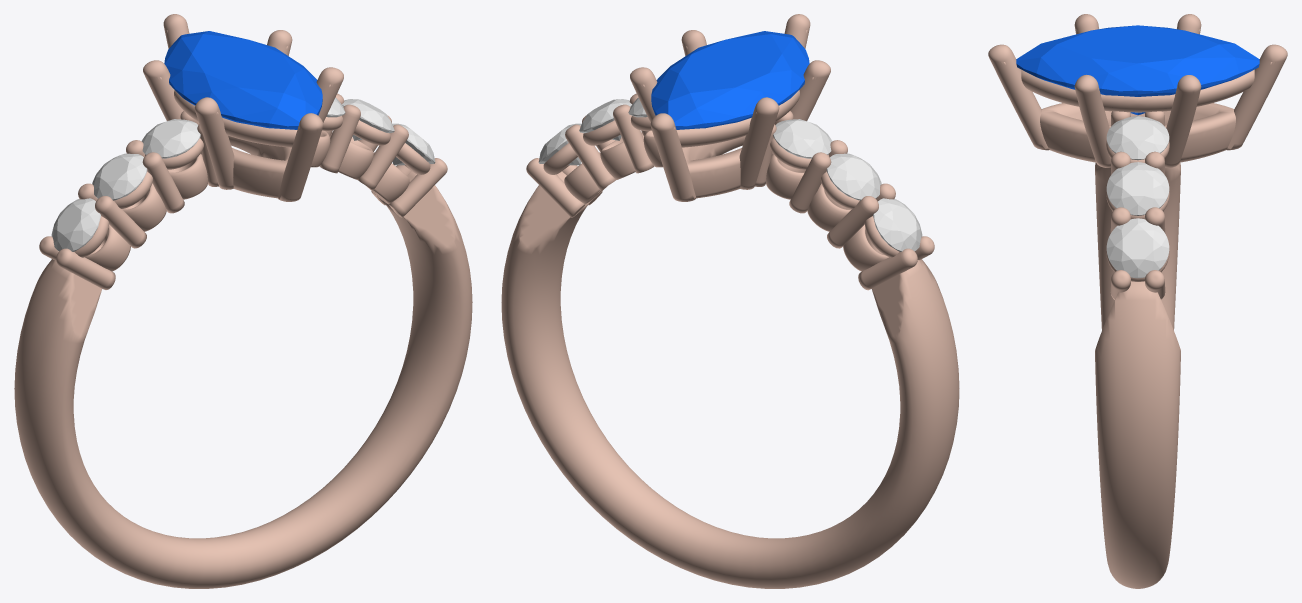
The model's file is bluesapphire-marquise-rosegold-6prong-taperedband-7stone.glb.
3 views of the same model, side by side, from view 1: azimuth 30°, elevation 25°; view 2: azimuth 150°, elevation 25°; view 3: azimuth 270°, elevation 25° (orthographic).
Parts seen in each view (by area): view 1: metal.001, stone, dia, dia.003, dia.004, dia.006, dia.005; view 2: metal.001, stone, dia, dia.003, dia.004, dia.006, dia.005; view 3: metal.001, stone, dia.005, dia.006, dia.007.
Part boxes in pixels (x1,y1,x2,y2): metal.001: [14, 14, 472, 588]; stone: [164, 31, 322, 129]; dia: [51, 198, 100, 251]; dia.003: [92, 153, 147, 200]; dia.004: [141, 119, 200, 158]; dia.006: [342, 99, 394, 140]; dia.005: [392, 123, 435, 165]; metal.001: [501, 14, 959, 588]; stone: [651, 31, 809, 129]; dia: [873, 198, 922, 251]; dia.003: [826, 153, 881, 200]; dia.004: [773, 119, 832, 158]; dia.006: [579, 99, 631, 140]; dia.005: [538, 123, 581, 165]; metal.001: [988, 14, 1287, 588]; stone: [1016, 25, 1259, 115]; dia.005: [1106, 218, 1169, 278]; dia.006: [1106, 162, 1169, 215]; dia.007: [1106, 116, 1169, 160].
Size of the model in its own units: 20.5 by 22.92 by 11.96.
